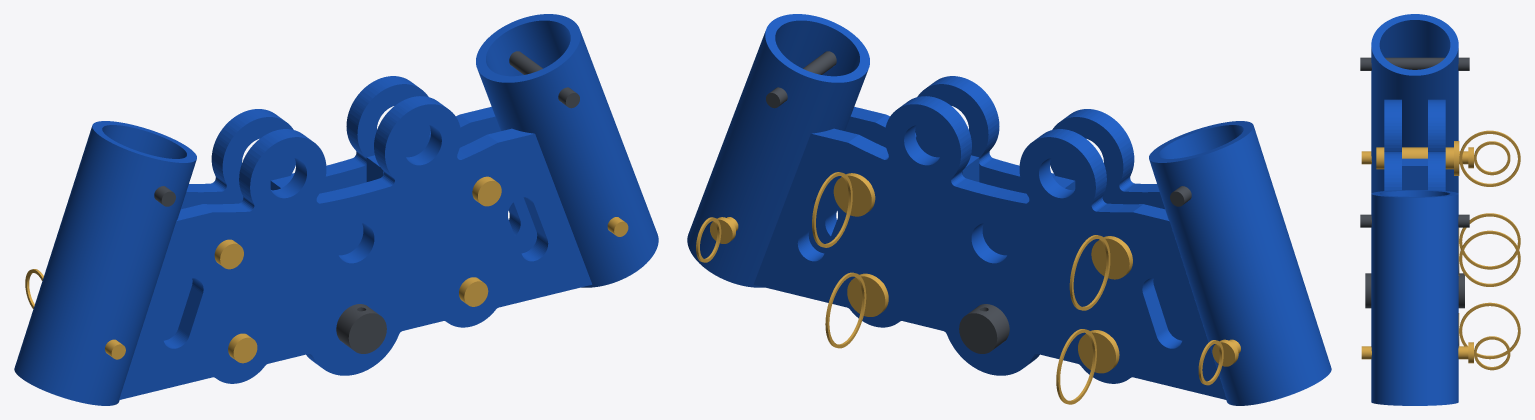
The model's file is 00_cabeza_armada.glb.
The picture shows the model from 3 angles, left to right: view 1: azimuth 30°, elevation 25°; view 2: azimuth 150°, elevation 25°; view 3: azimuth 270°, elevation 25°; orthographic projection. The views are drawn at different scales.
Visible parts, largest first — view 1: pt, c-1, c1, pd, bc, t1, pP1, pP2, pP3, pP4, pp-1; view 2: pd, c-1, c1, pt, pP4, pP3, pP1, pP2, bc, pp-1, pp1, t1; view 3: c1, c-1, pd, pt, pP1, t-1, n-1, pp1, pp-1, pP2, pP4, pP3 (+2 smaller).
Part boxes in pixels (x1,y1,x2,y2): pt: (119,96,592,399); c-1: (14,121,196,405); c1: (476,14,658,287); pd: (163,76,537,340); bc: (336,304,386,353); t1: (509,51,579,108); pP1: (214,239,243,269); pP2: (472,176,501,206); pP3: (228,333,257,363); pP4: (459,277,488,306); pp-1: (25,269,125,359); pd: (753,96,1226,399); c-1: (1149,121,1331,405); c1: (687,14,869,287); pt: (808,76,1182,340); pP4: (825,272,888,348); pP3: (1056,329,1119,404); pP1: (1069,235,1132,310); pP2: (812,172,875,247); bc: (959,304,1009,353); pp-1: (1198,339,1240,385); pp1: (696,217,738,262); t1: (766,51,836,108); c1: (1371,190,1458,405); c-1: (1371,14,1458,193); pd: (1428,99,1445,190); pt: (1384,99,1401,190); pP1: (1376,130,1520,186); t-1: (1360,57,1469,70); n-1: (1402,158,1427,189); pp1: (1361,336,1510,370); pp-1: (1361,141,1510,175); pP2: (1458,230,1520,286); pP4: (1458,302,1520,359); pP3: (1458,213,1520,269).
Size of the model in its own units: 420 by 180 by 116.
